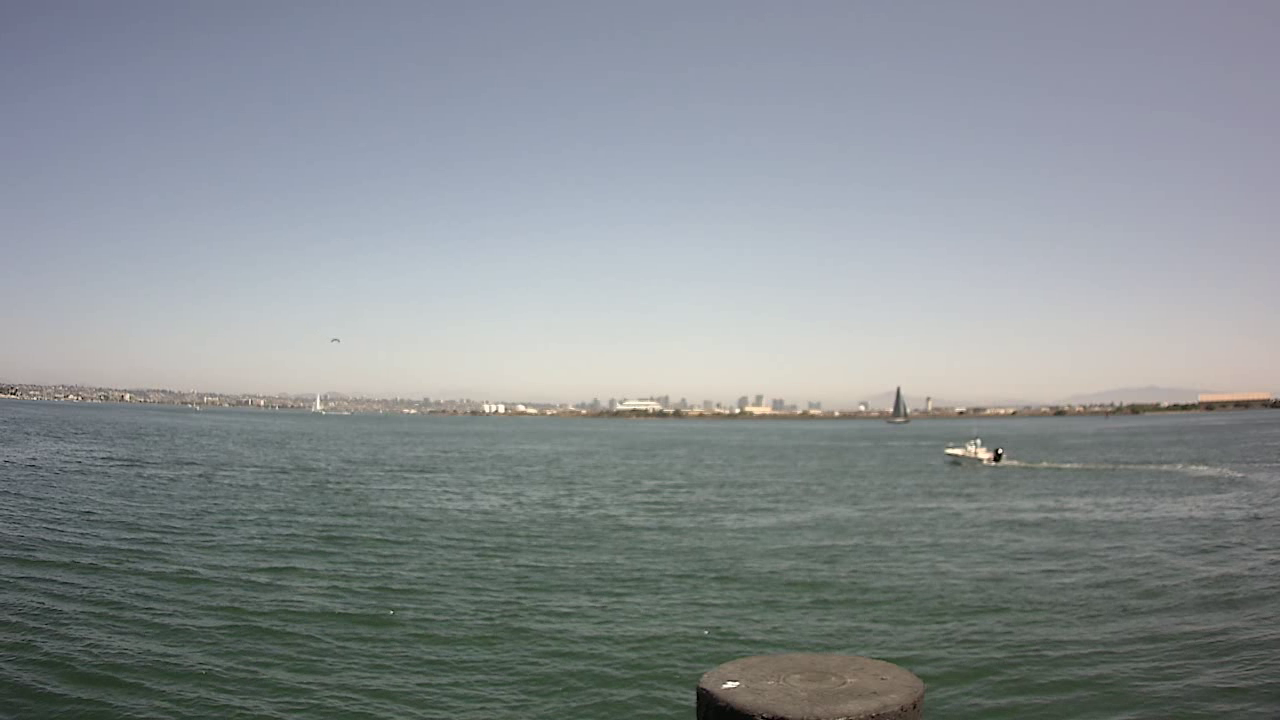target: (942, 431, 1013, 471)
